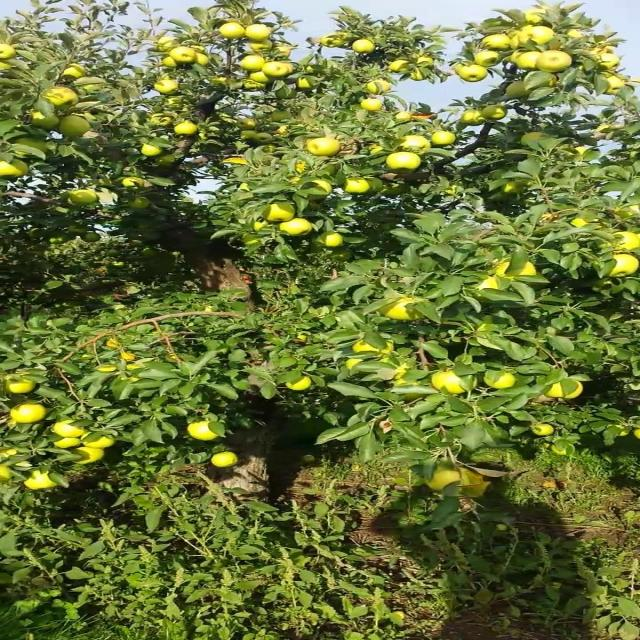apple: (433, 372, 468, 395), (355, 340, 396, 359), (383, 300, 420, 320), (56, 116, 92, 136), (426, 472, 462, 492), (540, 52, 574, 73), (262, 204, 299, 223), (497, 264, 539, 280), (390, 152, 421, 173), (611, 256, 639, 278), (70, 448, 107, 464), (518, 28, 555, 44), (305, 140, 341, 156), (547, 384, 583, 400), (13, 408, 48, 424), (49, 88, 78, 107), (28, 472, 57, 489), (461, 68, 491, 84), (284, 220, 313, 236), (191, 424, 219, 440), (604, 76, 626, 96), (35, 112, 59, 130), (618, 232, 639, 252), (504, 84, 532, 99), (461, 484, 491, 498), (518, 52, 540, 71), (483, 36, 512, 50), (56, 424, 85, 438), (404, 136, 432, 150), (70, 192, 100, 205), (220, 24, 244, 40), (241, 56, 265, 72), (476, 52, 500, 68), (490, 376, 519, 389), (84, 436, 114, 448), (156, 80, 178, 96), (170, 48, 192, 64), (13, 140, 48, 150), (262, 64, 286, 78), (6, 384, 36, 395), (312, 180, 334, 195), (461, 112, 484, 126), (212, 456, 238, 468), (433, 132, 455, 146), (461, 472, 484, 485), (348, 180, 370, 193), (355, 40, 377, 53), (6, 164, 28, 177), (369, 80, 391, 93), (390, 368, 409, 383), (532, 424, 555, 436), (177, 124, 199, 136), (362, 100, 384, 112), (248, 28, 270, 40), (483, 108, 505, 120), (291, 380, 313, 392), (319, 236, 341, 248), (156, 40, 178, 52), (483, 276, 501, 290), (383, 184, 404, 196), (525, 12, 544, 25), (326, 36, 345, 48), (276, 64, 292, 78), (63, 68, 85, 78), (156, 156, 176, 167), (248, 80, 267, 91), (390, 60, 407, 72), (604, 56, 619, 69), (56, 440, 80, 448), (141, 148, 164, 156), (504, 184, 524, 193), (525, 132, 544, 141), (255, 72, 270, 83), (156, 116, 171, 127), (49, 236, 69, 244), (397, 112, 412, 122), (170, 100, 185, 110), (248, 236, 263, 246), (70, 228, 91, 235), (276, 112, 292, 121), (255, 220, 268, 231), (198, 56, 212, 66), (255, 44, 272, 52), (127, 180, 144, 188), (241, 120, 258, 128), (575, 220, 592, 228), (298, 80, 313, 89), (134, 200, 149, 209), (348, 360, 361, 370), (625, 208, 638, 218), (84, 236, 100, 244), (278, 48, 292, 57), (163, 60, 178, 68), (419, 56, 434, 64), (412, 72, 427, 80), (241, 132, 256, 140), (554, 448, 569, 456), (6, 448, 20, 456), (6, 48, 16, 59), (568, 32, 583, 39), (511, 52, 521, 62), (214, 80, 228, 87), (276, 128, 290, 135), (257, 136, 270, 143)
